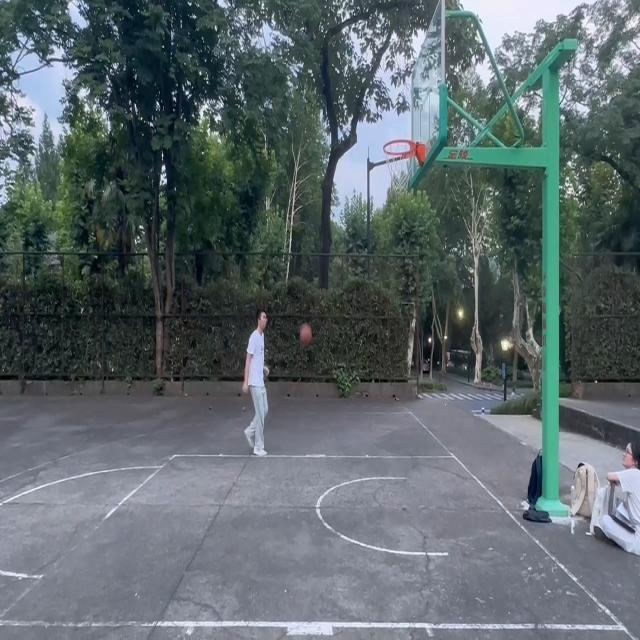rim: (302, 325, 314, 347)
